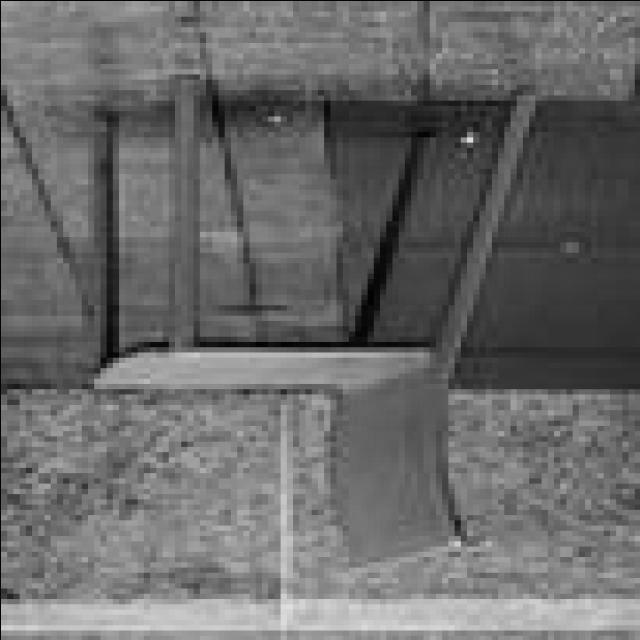chair: (91, 80, 543, 574)
